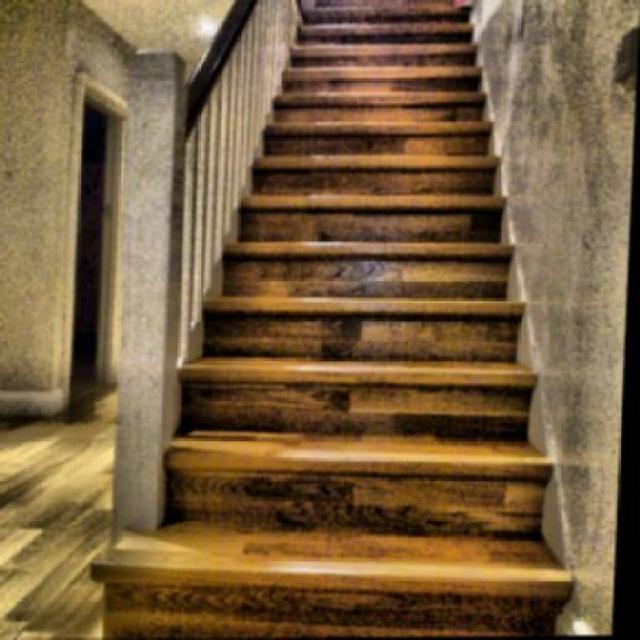stair: (189, 0, 600, 588)
